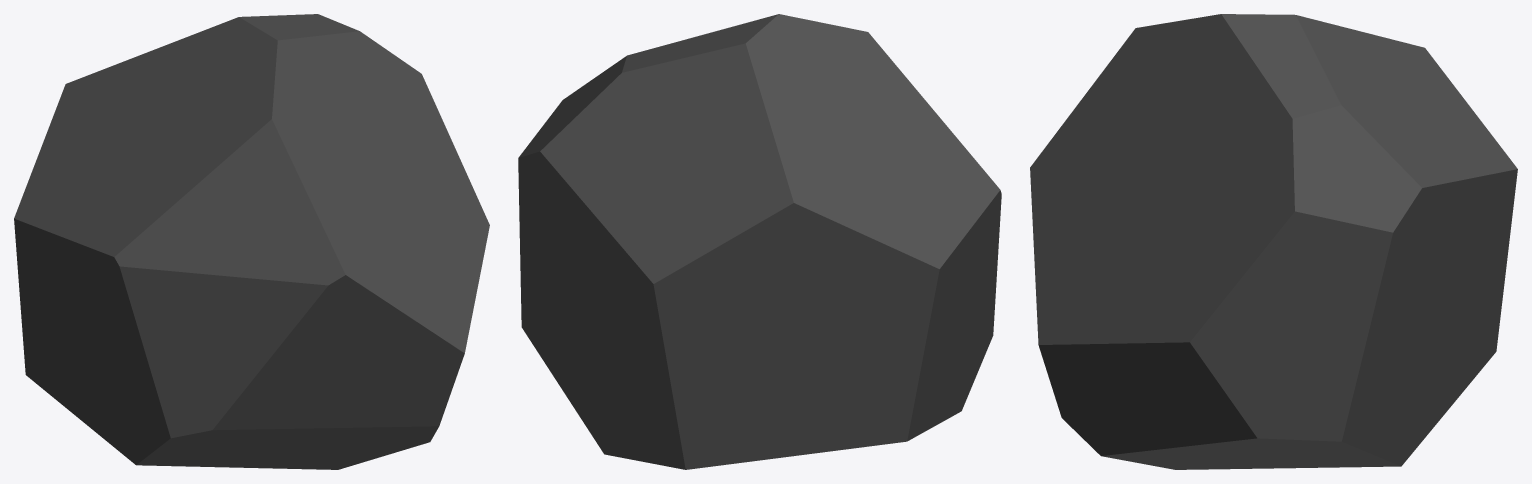
Rendered from StoneMediumLarge6.fbx.
3 views of the same model, side by side, from view 1: azimuth 30°, elevation 25°; view 2: azimuth 150°, elevation 25°; view 3: azimuth 270°, elevation 25° (orthographic). The views are drawn at different scales.
Visible parts, largest first — view 1: StoneMediumLarge6; view 2: StoneMediumLarge6; view 3: StoneMediumLarge6.
Boxes of the visible parts, x1,y1,x2,y2 form: StoneMediumLarge6: (14, 14, 489, 469); StoneMediumLarge6: (518, 14, 1001, 469); StoneMediumLarge6: (1030, 14, 1517, 469).
Bounding box in the file's own units: 262 × 256 × 259.
1 material, 1 textured.
